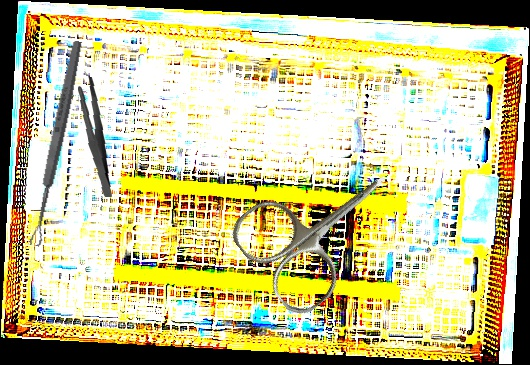Dressing Forceps: (70, 75, 121, 198)
Iris Scissors: (224, 131, 422, 323)
Surgical Spoon: (27, 39, 85, 248)
